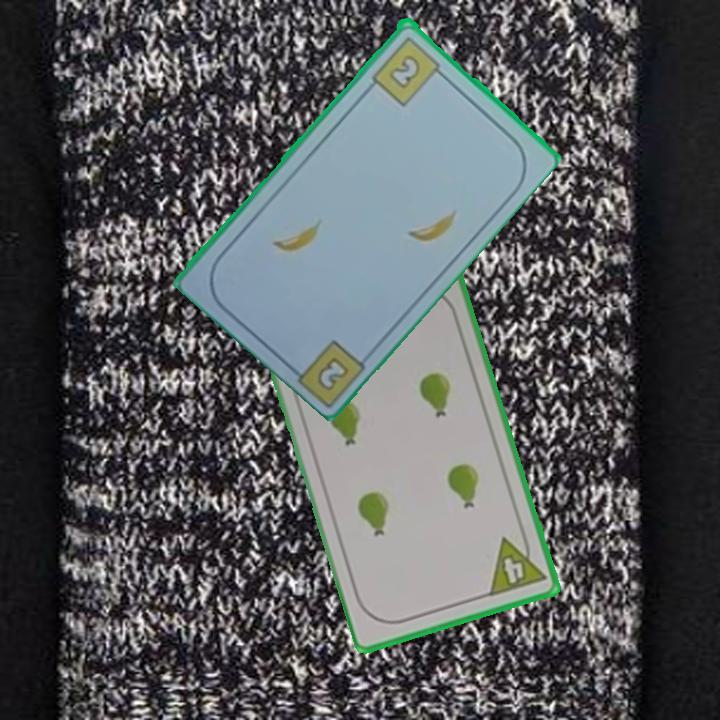2b: (368, 32, 448, 109), (313, 352, 352, 394)
4p: (485, 528, 549, 600)
